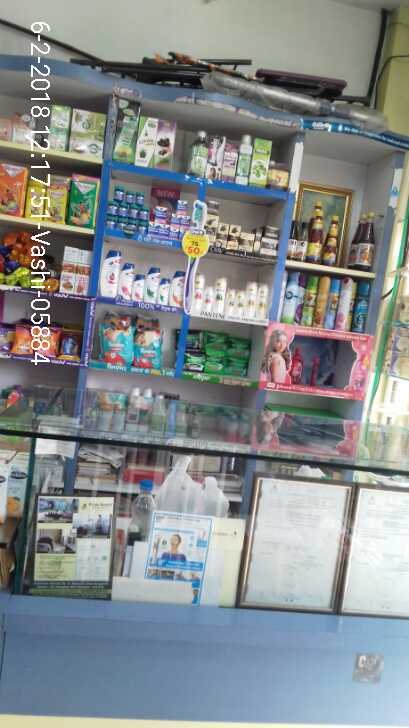beauty: (183, 269, 270, 319), (207, 176, 245, 198)
pharmacy: (104, 187, 192, 245), (184, 329, 248, 377), (94, 305, 132, 366), (129, 319, 164, 365)
